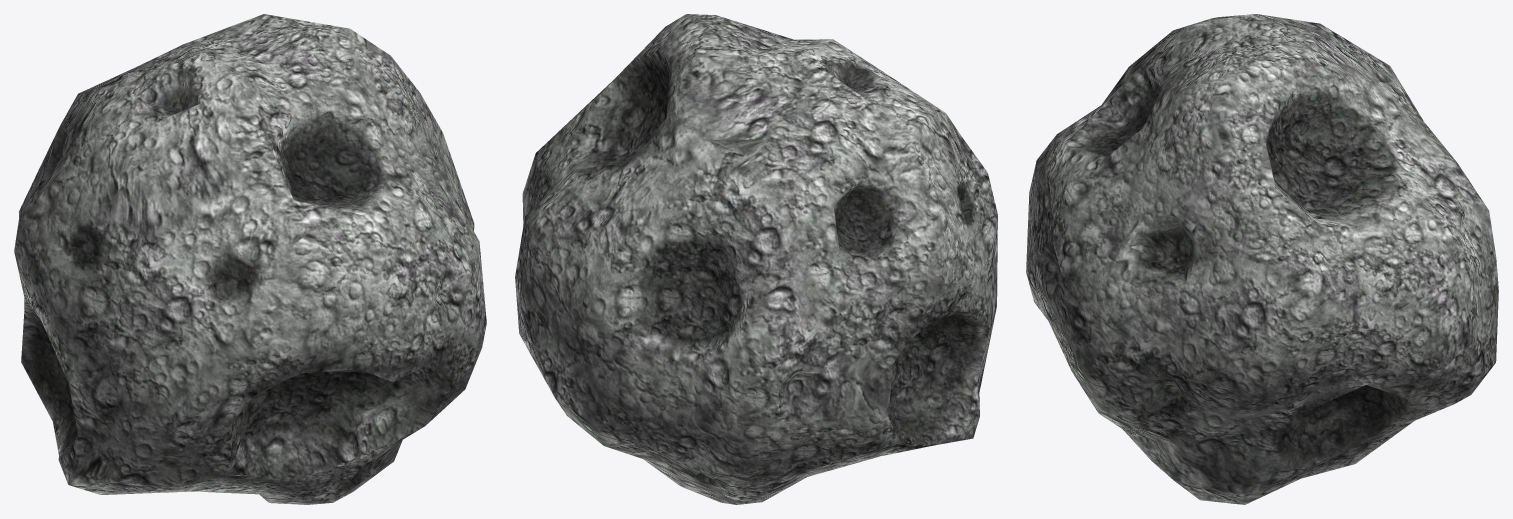
Rendered from asteroid.glb.
The picture shows the model from 3 angles, left to right: view 1: azimuth 30°, elevation 25°; view 2: azimuth 150°, elevation 25°; view 3: azimuth 270°, elevation 25°; orthographic projection. The views are drawn at different scales.
Visible parts, largest first — view 1: Asteroid Mob 01_Asteroid 01_0; view 2: Asteroid Mob 01_Asteroid 01_0; view 3: Asteroid Mob 01_Asteroid 01_0.
Part boxes in pixels (x1,y1,x2,y2): Asteroid Mob 01_Asteroid 01_0: (14,14,486,504); Asteroid Mob 01_Asteroid 01_0: (515,14,997,504); Asteroid Mob 01_Asteroid 01_0: (1026,14,1498,504).
Bounding box in the file's own units: 231 × 236 × 229.
Materials: 1 (1 with a texture image).
